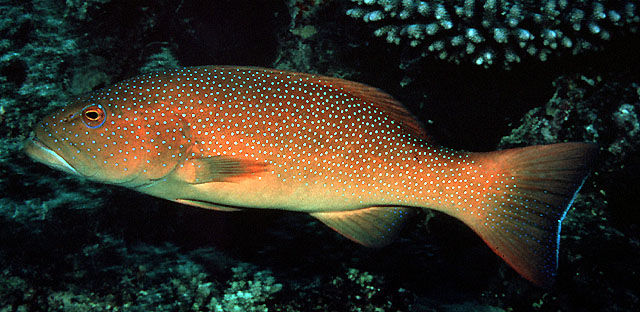fish: (26, 65, 596, 285)
